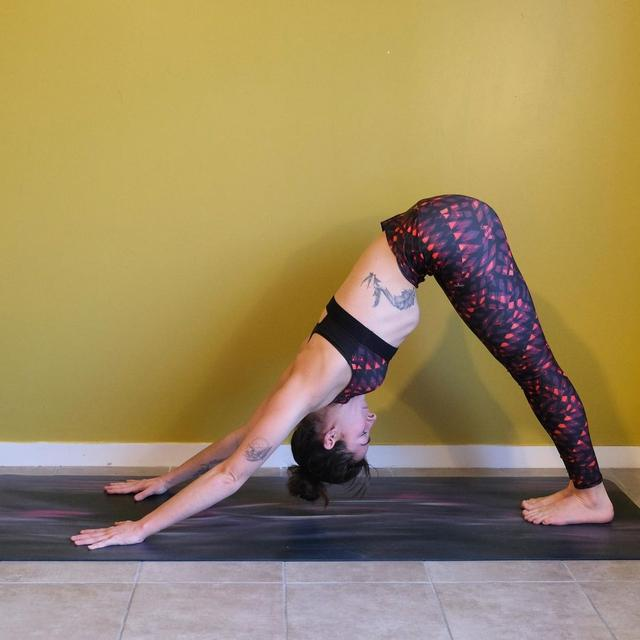Downward-Facing_Dog: (72, 190, 621, 555)
